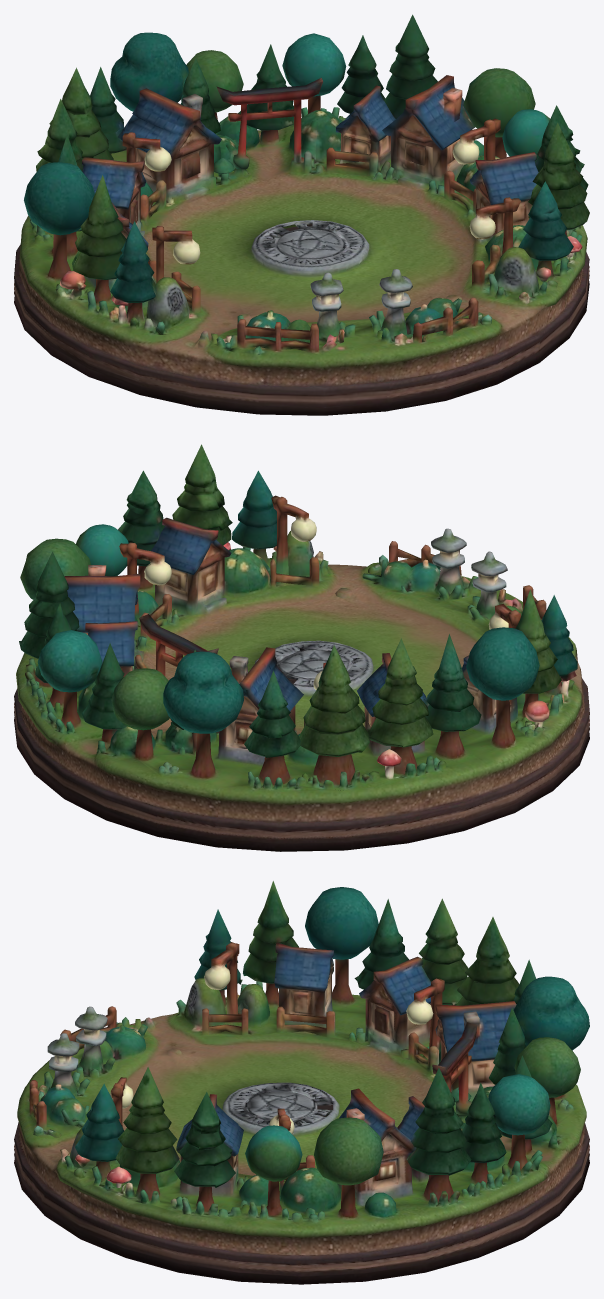
File: arena.glb
The picture shows the model from 3 angles, top to bottom: view 1: azimuth 30°, elevation 25°; view 2: azimuth 150°, elevation 25°; view 3: azimuth 270°, elevation 25°; orthographic projection.
Parts seen in each view (by area): view 1: tripo_node_c9cea7e8-b9af-43d0-87ea-04fc900117a2; view 2: tripo_node_c9cea7e8-b9af-43d0-87ea-04fc900117a2; view 3: tripo_node_c9cea7e8-b9af-43d0-87ea-04fc900117a2.
Boxes of the visible parts, box(x1,y1,x2,y2) form: tripo_node_c9cea7e8-b9af-43d0-87ea-04fc900117a2: box(14, 14, 589, 415); tripo_node_c9cea7e8-b9af-43d0-87ea-04fc900117a2: box(14, 444, 589, 851); tripo_node_c9cea7e8-b9af-43d0-87ea-04fc900117a2: box(14, 881, 589, 1284).
Size of the model in its own units: 0.9779 by 0.3502 by 0.9779.
1 material, 1 textured.
